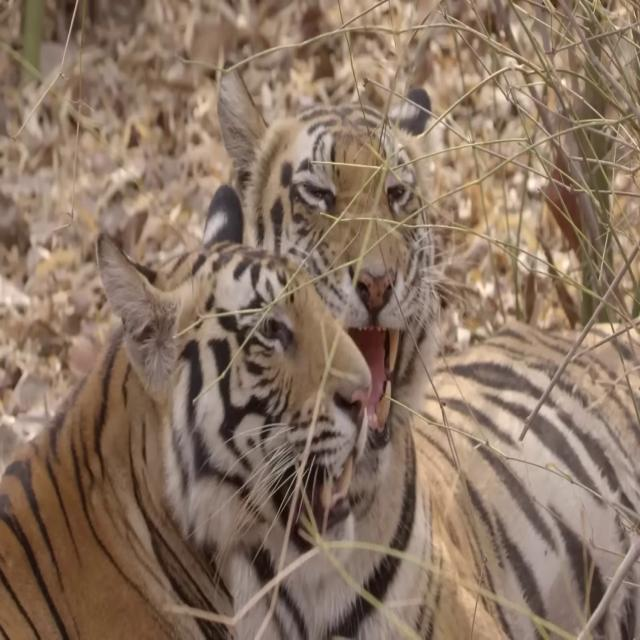tiger: (0, 64, 437, 637), (98, 183, 639, 640)
